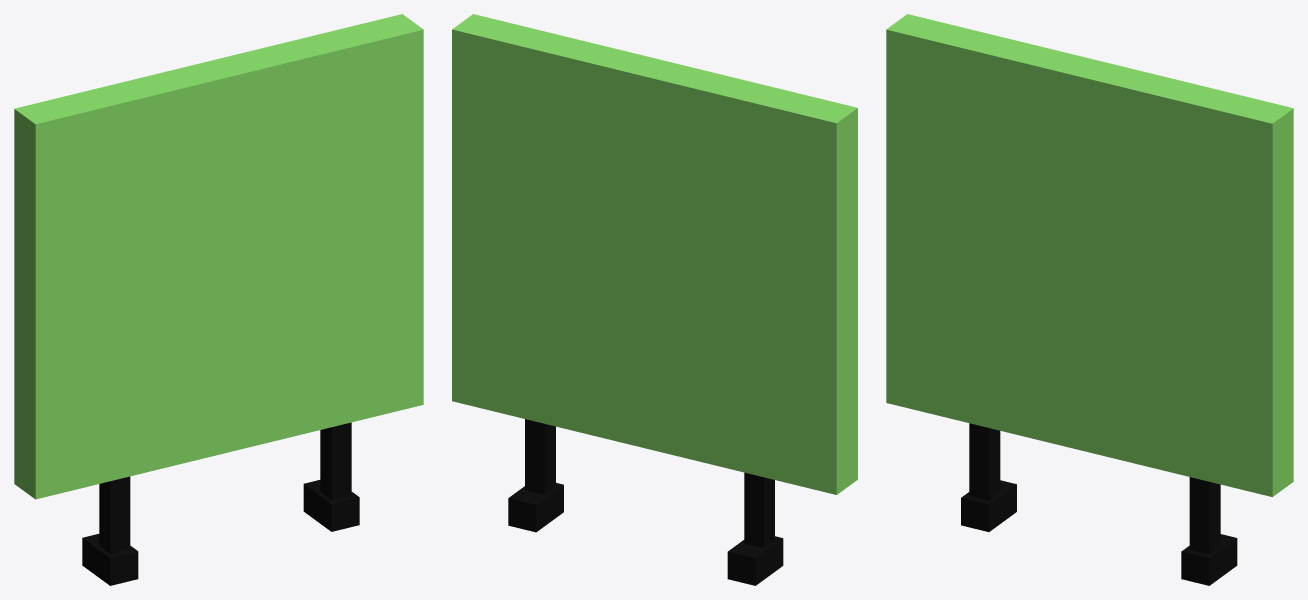
The model's file is EJEMPLOJUGSDOR.fbx.
3 views of the same model, side by side, from view 1: azimuth 30°, elevation 25°; view 2: azimuth 150°, elevation 25°; view 3: azimuth 330°, elevation 25° (orthographic).
Parts seen in each view (by area): view 1: Cube.001; view 2: Cube.001; view 3: Cube.001.
Part boxes in pixels (x1,y1,x2,y2): Cube.001: (14, 14, 423, 585); Cube.001: (452, 14, 857, 585); Cube.001: (886, 14, 1293, 585).
Bounding box in the file's own units: 119 × 141 × 15.
